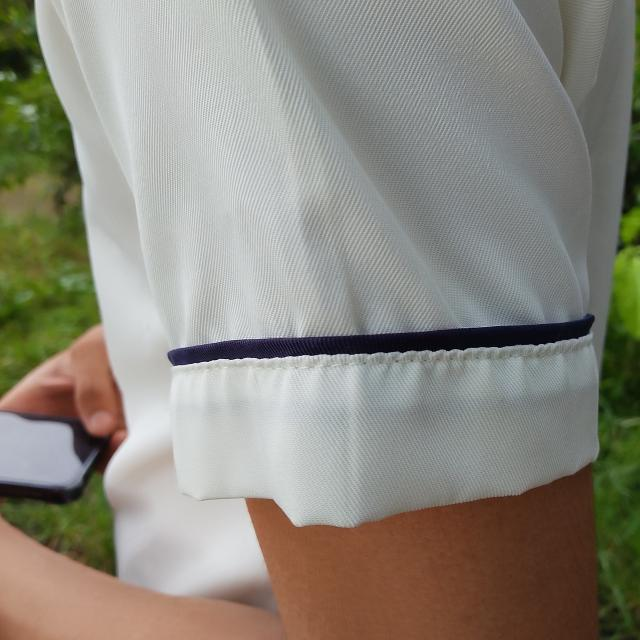education_male_uniform: (0, 0, 640, 554)
